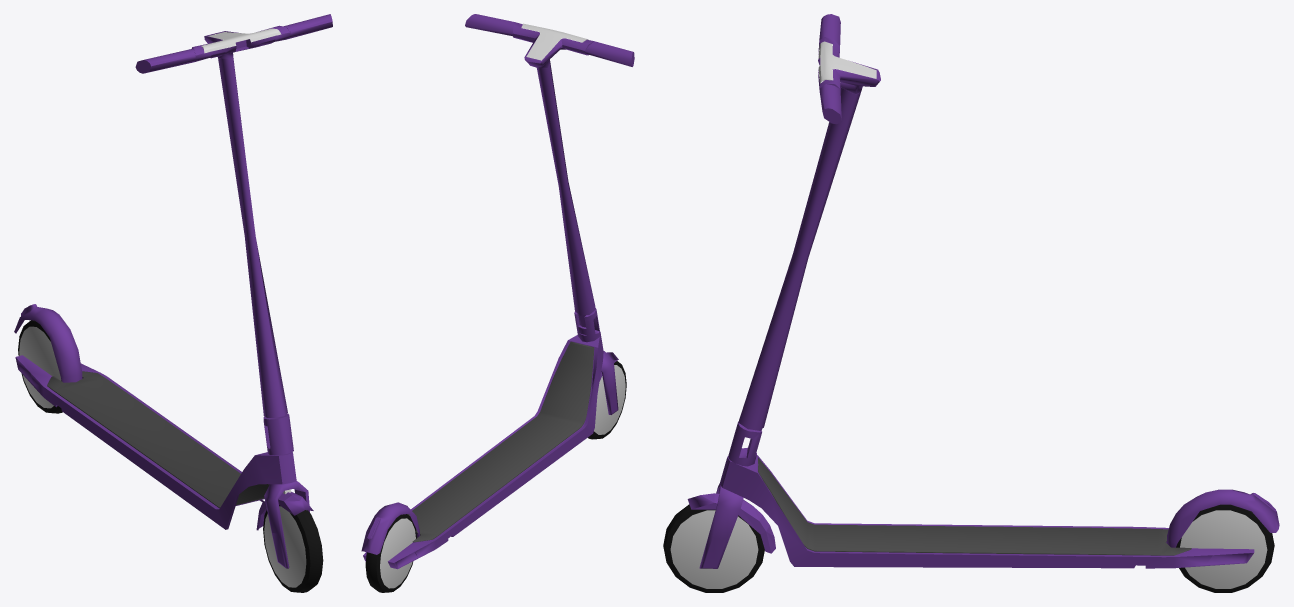
Rendered from Scooter.glb.
The picture shows the model from 3 angles, left to right: view 1: azimuth 30°, elevation 25°; view 2: azimuth 150°, elevation 25°; view 3: azimuth 270°, elevation 25°; orthographic projection. The views are drawn at different scales.
Parts seen in each view (by area): view 1: Scooter; view 2: Scooter; view 3: Scooter.
Part boxes in pixels (bbox=[...]): Scooter: bbox=[14, 14, 332, 592]; Scooter: bbox=[361, 14, 634, 592]; Scooter: bbox=[663, 14, 1279, 592].
Size of the model in its own units: 4.4 by 11.06 by 11.62.
